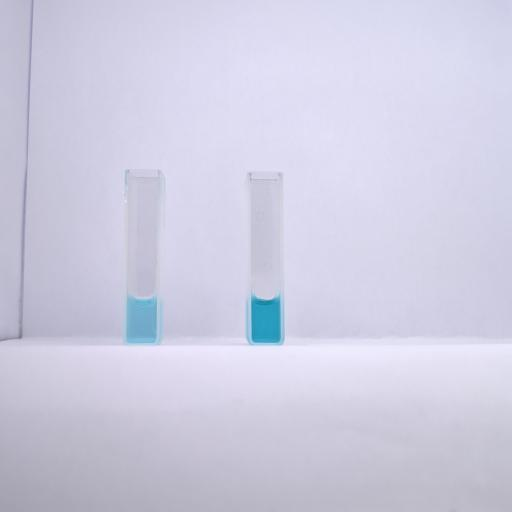cuvette: (121, 166, 163, 348), (245, 168, 287, 348)
liquid: (127, 296, 157, 342), (252, 297, 280, 342)
